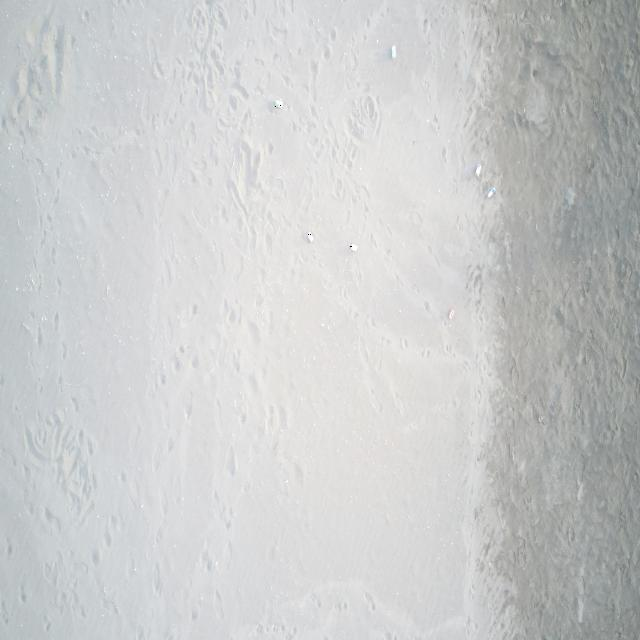tin-and-aluminum-cans: (474, 162, 483, 178), (307, 231, 315, 244), (488, 187, 496, 198), (350, 243, 358, 253), (274, 98, 282, 108), (391, 44, 396, 59), (449, 308, 454, 320)
